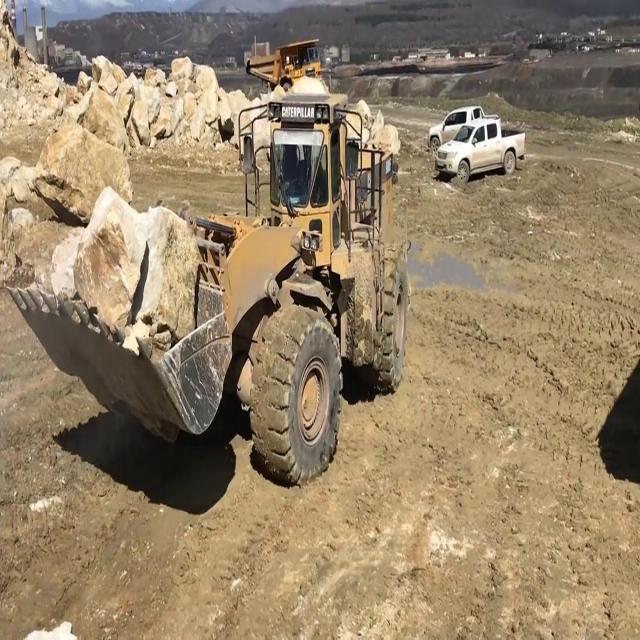buldozerpayloadergrader: (4, 90, 412, 492)
dump_truck: (244, 36, 322, 86)
